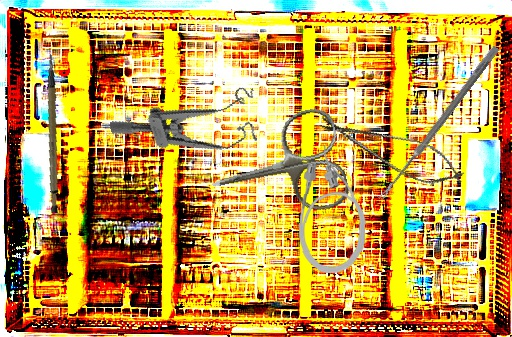Cannula: (297, 143, 369, 275)
Iris Scissors: (200, 104, 353, 234)
Micro Scissor: (313, 105, 470, 196)
Scalpel Handle: (30, 54, 79, 214)
Speculum: (108, 74, 270, 185)
Surgical Spoon: (377, 44, 500, 203)
